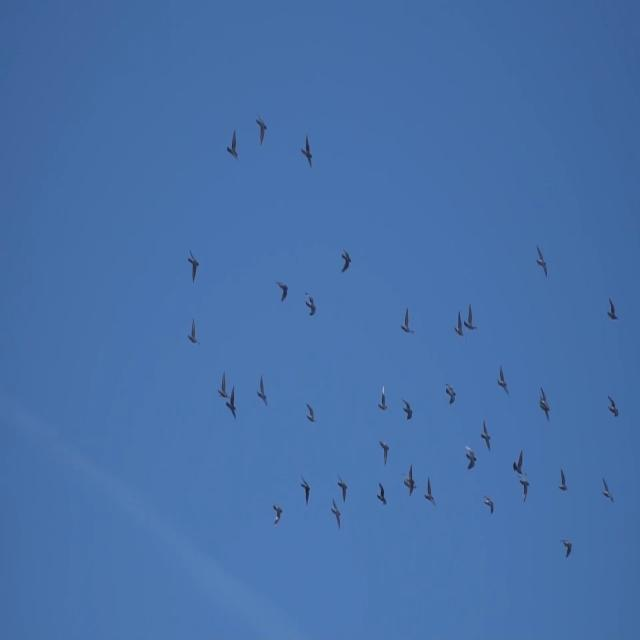bird: (536, 385, 551, 424), (224, 130, 240, 166), (299, 132, 313, 171), (254, 373, 270, 406), (186, 247, 200, 284), (255, 112, 268, 150), (534, 242, 548, 277), (403, 462, 416, 498), (496, 363, 510, 396), (558, 535, 575, 562), (400, 308, 414, 340), (224, 386, 238, 418), (462, 443, 478, 471), (298, 475, 312, 507), (423, 476, 437, 508), (275, 277, 289, 308), (335, 472, 348, 505), (480, 417, 491, 455), (374, 480, 388, 508), (464, 302, 477, 332), (330, 498, 342, 530), (600, 474, 614, 501), (605, 296, 619, 322), (378, 437, 391, 465), (186, 316, 198, 346), (216, 371, 228, 401), (339, 247, 351, 276), (518, 474, 530, 503), (510, 448, 524, 472), (556, 467, 568, 495), (304, 290, 316, 316), (607, 393, 619, 419), (453, 309, 464, 337), (444, 380, 456, 405), (377, 385, 388, 411), (482, 492, 495, 514), (271, 502, 282, 528), (401, 399, 413, 421), (304, 401, 315, 424)
